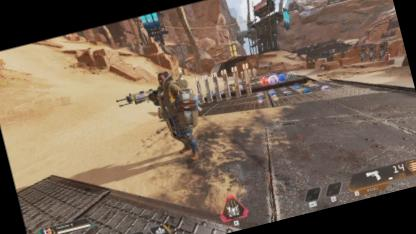Target: (148, 65, 210, 163)
